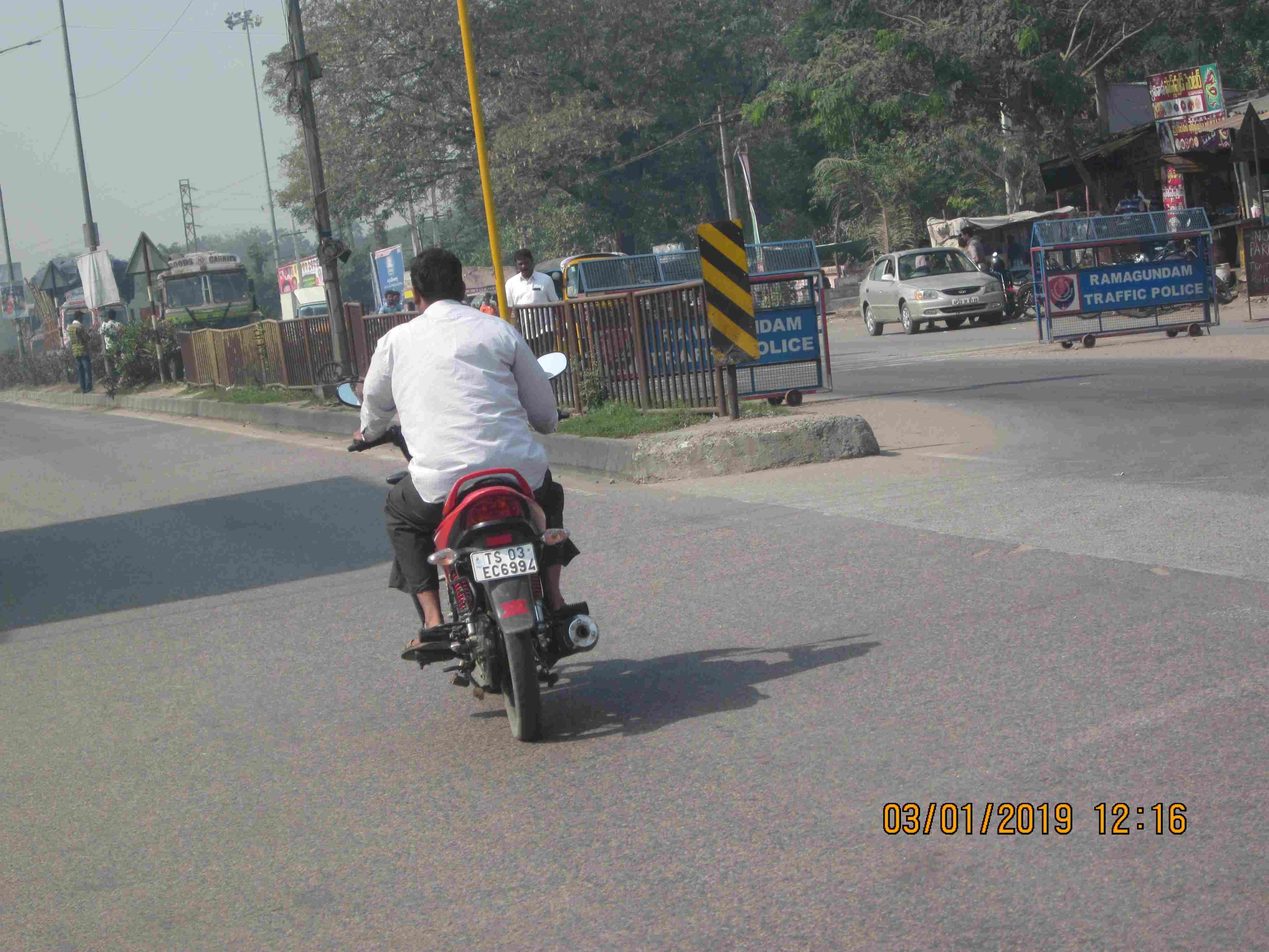plate: (464, 536, 555, 585)
